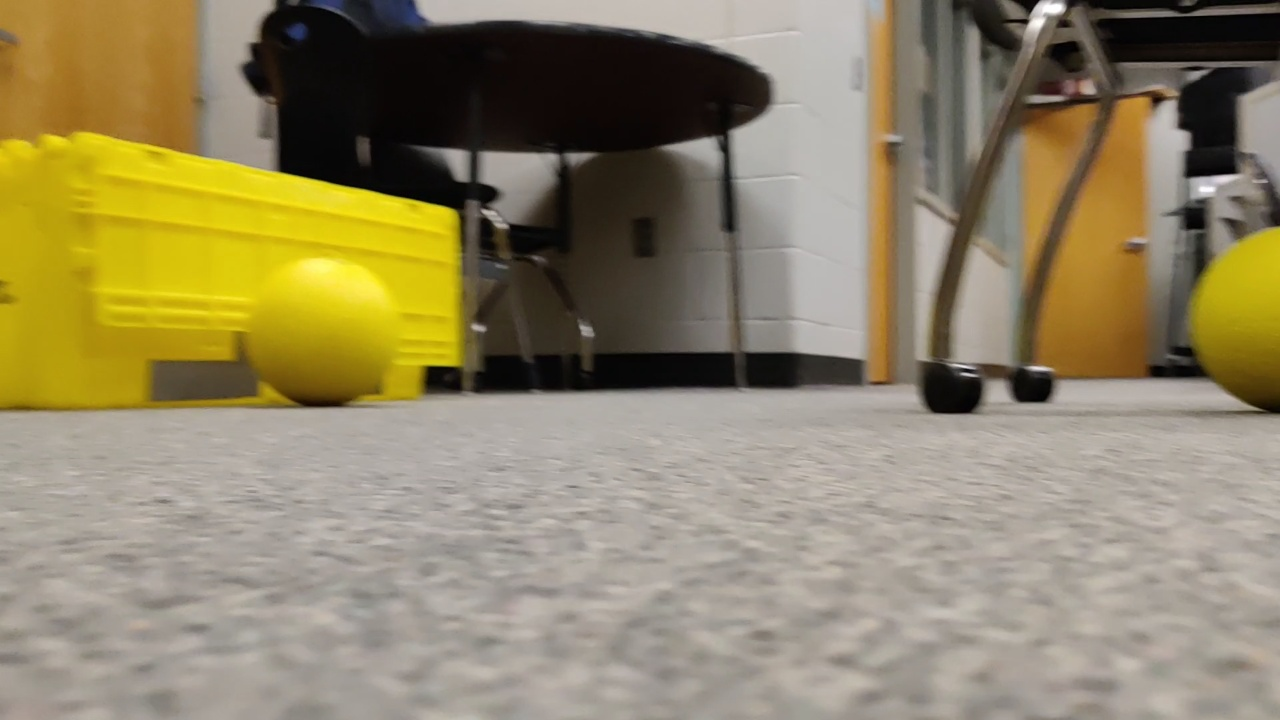Ball: (251, 250, 395, 407)
